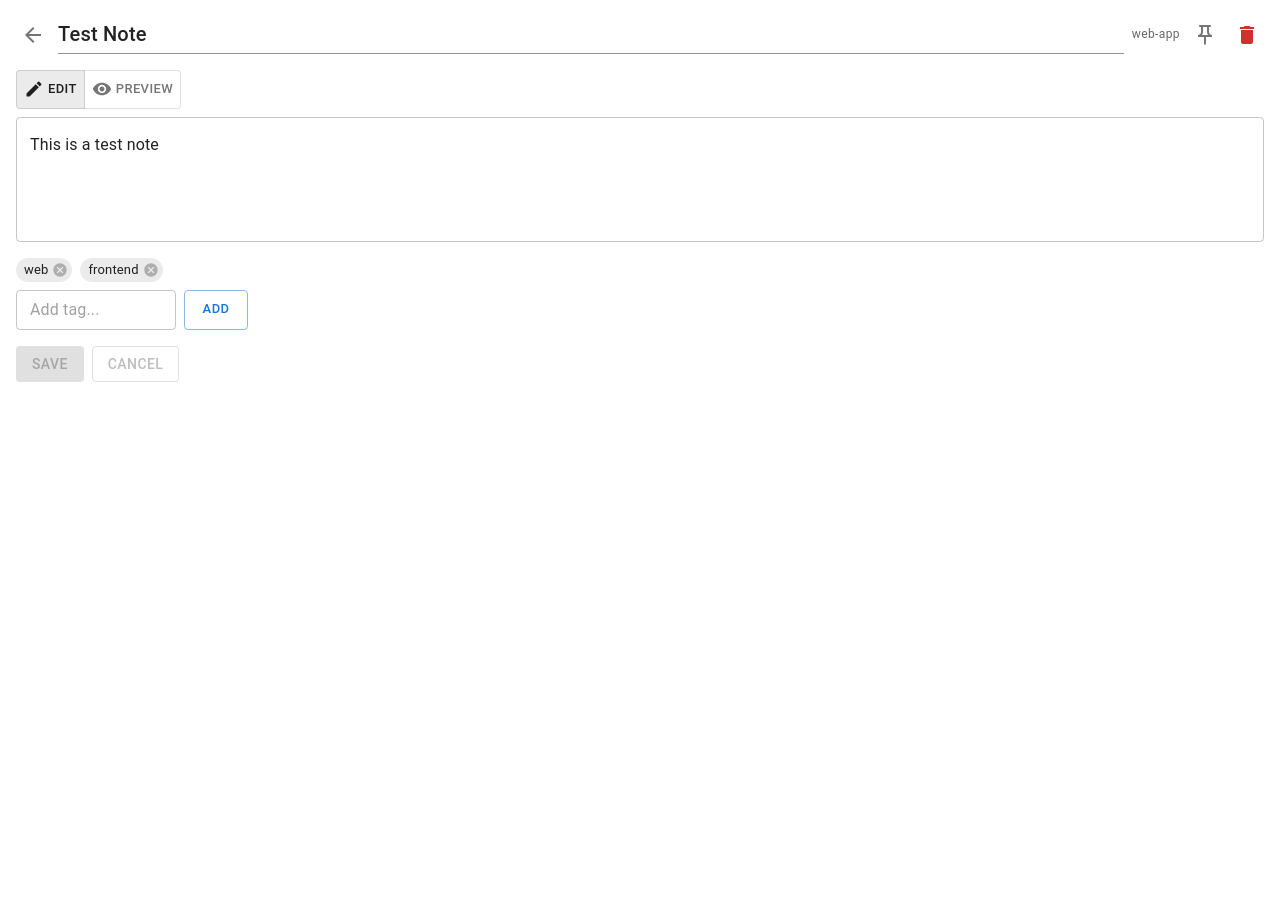
Test: NoteEditor › shows delete confirmation dialog
This screenshot has width=1280, height=900.
Click the button named "Delete note": (1247, 35) [1230,18,1264,52]
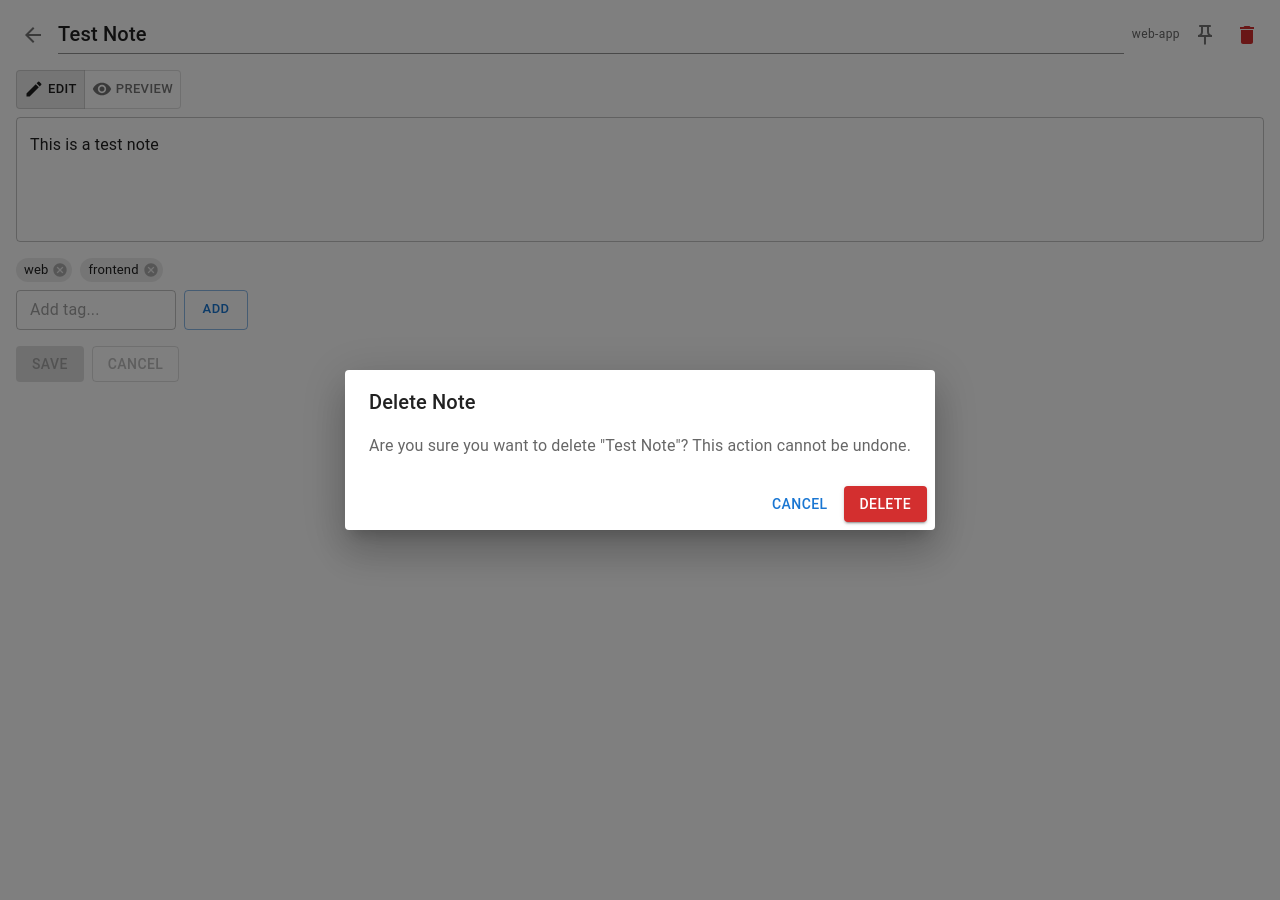
Expected: the heading "Delete Note" is shown, [369,390,476,414]
Expected: the text "Are you sure you want to delete" is shown, [369,436,605,455]
